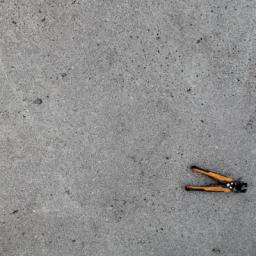FOD: (186, 162, 252, 198)
